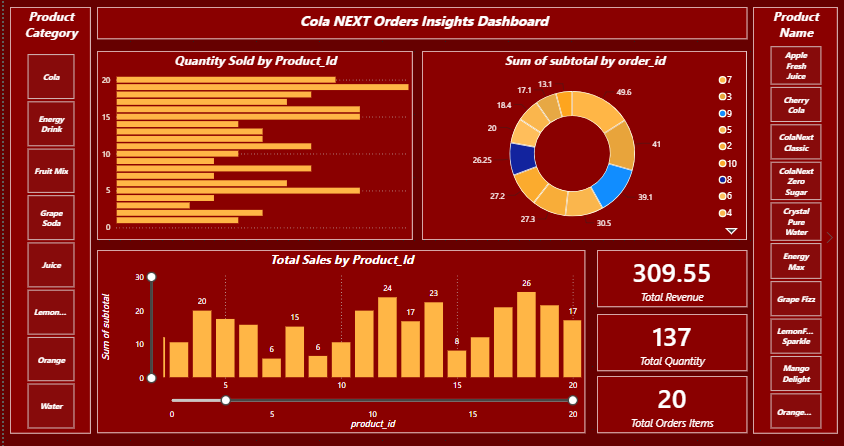

The page's visual inventory and layout, read from the dashboard file:
{"tool":"powerbi","page":{"name":"Order Items Insights","canvas":[1280,720],"ordinal":2},"visuals":[{"type":"textbox","box":[141.4,28.3,990.8,48.8],"z":0},{"type":"slicer","title":"Product Category","fields":{"Values":["colanextdb products.category"]},"box":[9,28.3,123.4,650.3],"z":1000},{"type":"slicer","title":"Product Name","fields":{"Values":["colanextdb products.product_name"]},"box":[1141.2,28.3,128.5,650.3],"z":2000},{"type":"lineClusteredColumnComboChart","title":"Total Sales by Product_Id","fields":{"Category":["colanextdb order_items.product_id"],"Y":["Sum(colanextdb order_items.subtotal)"]},"box":[141.4,399.7,744.1,278.9],"z":2001},{"type":"clusteredBarChart","title":"Quantity Sold by Product_Id","fields":{"Y":["Sum(colanextdb order_items.quantity)"],"Category":["colanextdb order_items.product_id"]},"box":[141.4,96.4,480.6,287.9],"z":2002},{"type":"donutChart","fields":{"Y":["Sum(colanextdb order_items.subtotal)"],"Category":["colanextdb order_items.order_id"]},"box":[637.4,96.4,494.8,287.9],"z":2003},{"type":"card","fields":{"Values":["colanextdb customers.Total Revenue"]},"box":[903.5,399.7,228.8,87.4],"z":2004},{"type":"card","fields":{"Values":["Sum(colanextdb order_items.quantity)"]},"box":[903.5,496.1,228.8,87.4],"z":2005},{"type":"card","fields":{"Values":["CountNonNull(colanextdb order_items.order_id)"]},"box":[903.5,591.2,228.8,87.4],"z":2006}]}

Visuals, with their boxes on the page's 1280x720 design canvas (x1, y1, x2, y2). These are canvas units, not pixel positions in the 844x446 screenshot, which may show the page scaled, cropped or inside an application window:
textbox: 141:28:1132:77
"Product Category" slicer: 9:28:132:679
"Product Name" slicer: 1141:28:1270:679
"Total Sales by Product_Id" lineClusteredColumnComboChart: 141:400:886:679
"Quantity Sold by Product_Id" clusteredBarChart: 141:96:622:384
donutChart - Sum(colanextdb order_items.subtotal) x colanextdb order_items.order_id: 637:96:1132:384
card - colanextdb customers.Total Revenue: 904:400:1132:487
card - Sum(colanextdb order_items.quantity): 904:496:1132:584
card - CountNonNull(colanextdb order_items.order_id): 904:591:1132:679
